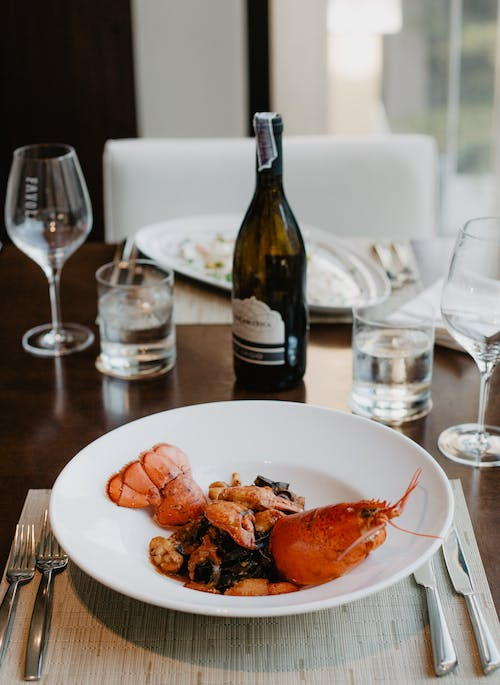alcohol: (229, 110, 309, 388), (0, 142, 95, 357), (435, 212, 500, 475)
